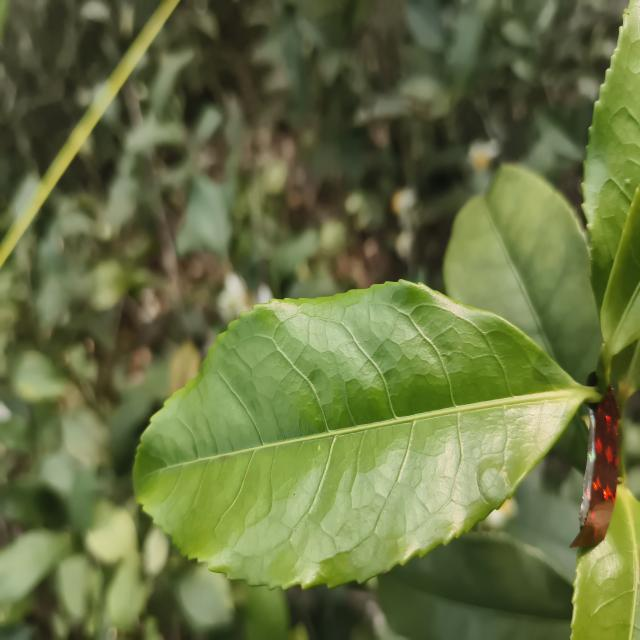Leaf: (133, 281, 598, 587), (443, 164, 602, 383), (378, 531, 573, 640), (583, 0, 640, 307), (571, 484, 640, 640), (601, 187, 640, 364), (0, 529, 70, 603), (192, 176, 231, 252)
